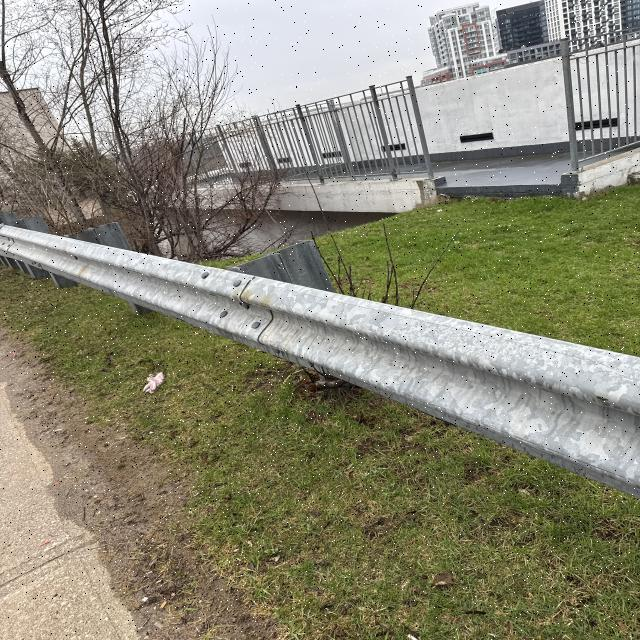Guard rail: (5, 238, 626, 478)
